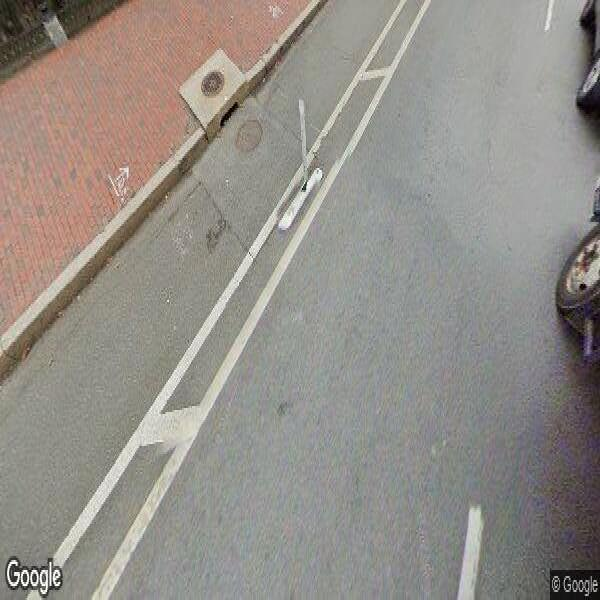manhole: (197, 55, 227, 103)
